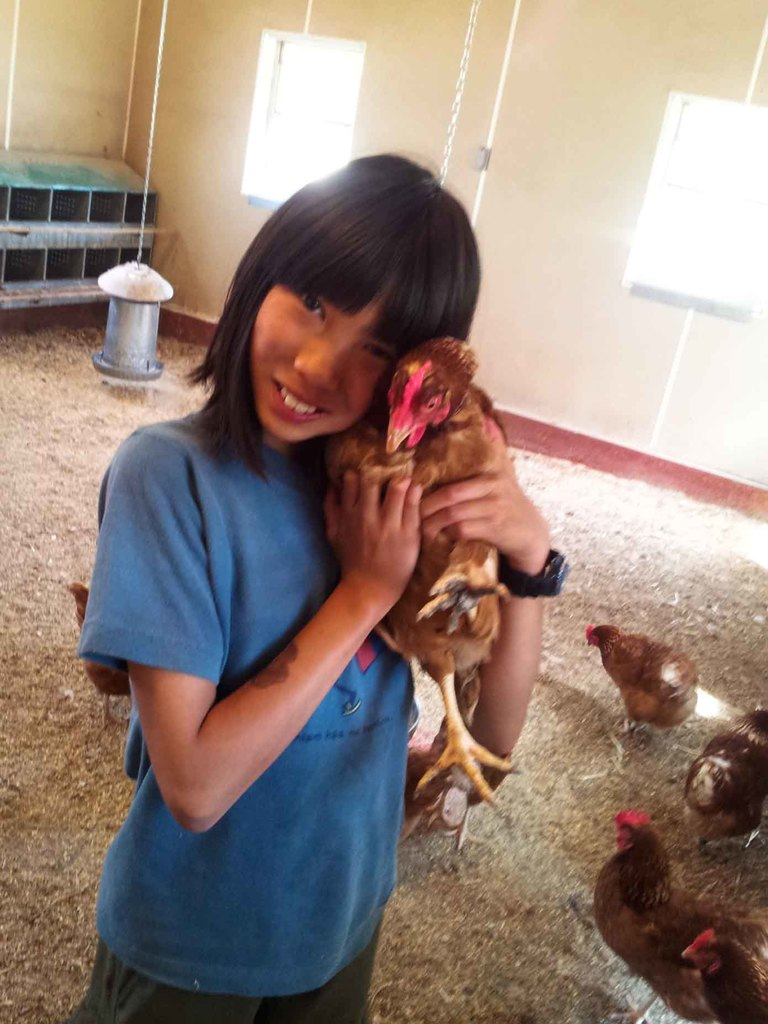Human_hand: (420, 415, 550, 554), (326, 465, 422, 593)
